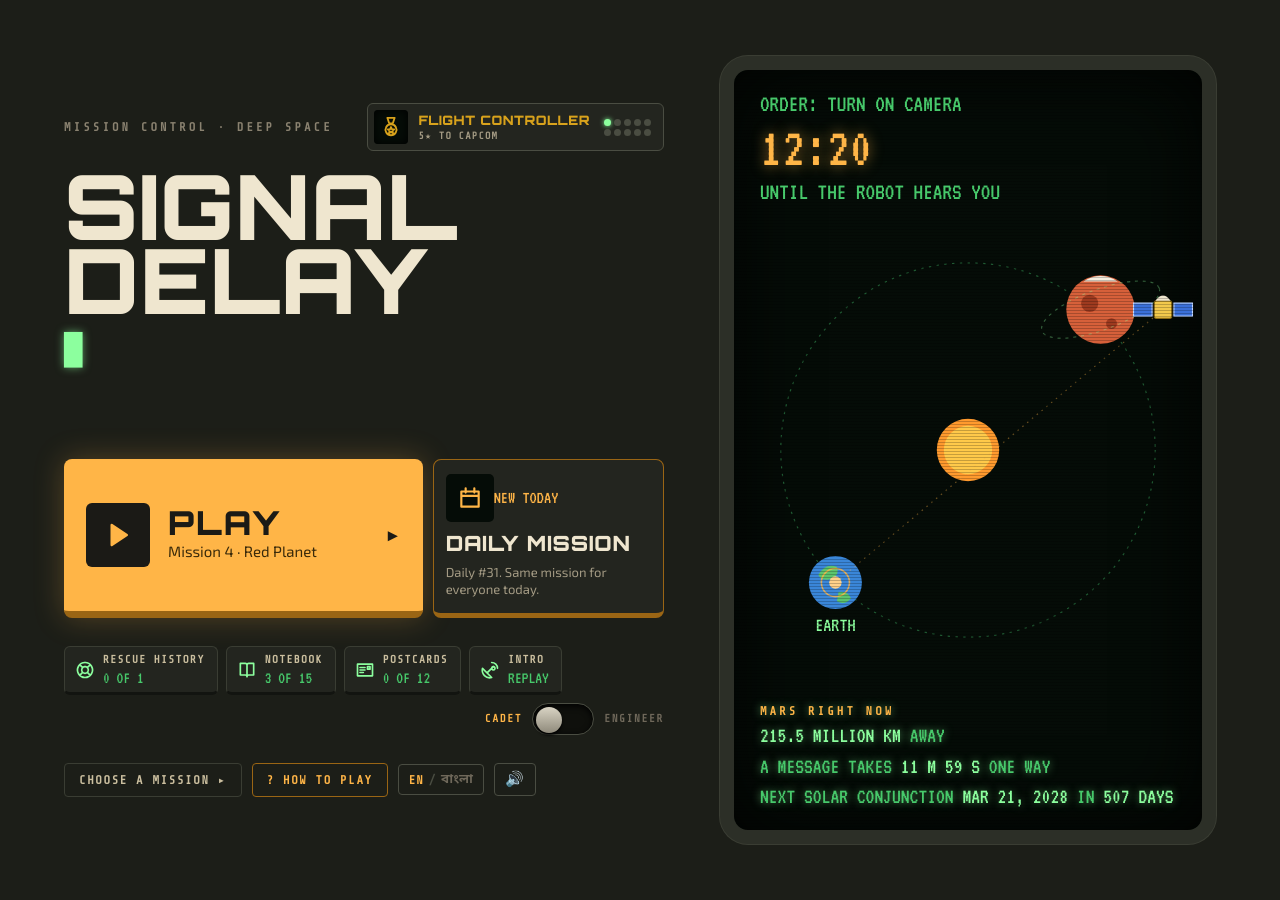
Pack: the nose and the shelf › opens with the locked computer and engine plus the starter’s instruments; squares left come from the engine
Click the button "CHOOSE A MISSION ▸". click: click(153, 780)
box: [64,763,242,797]
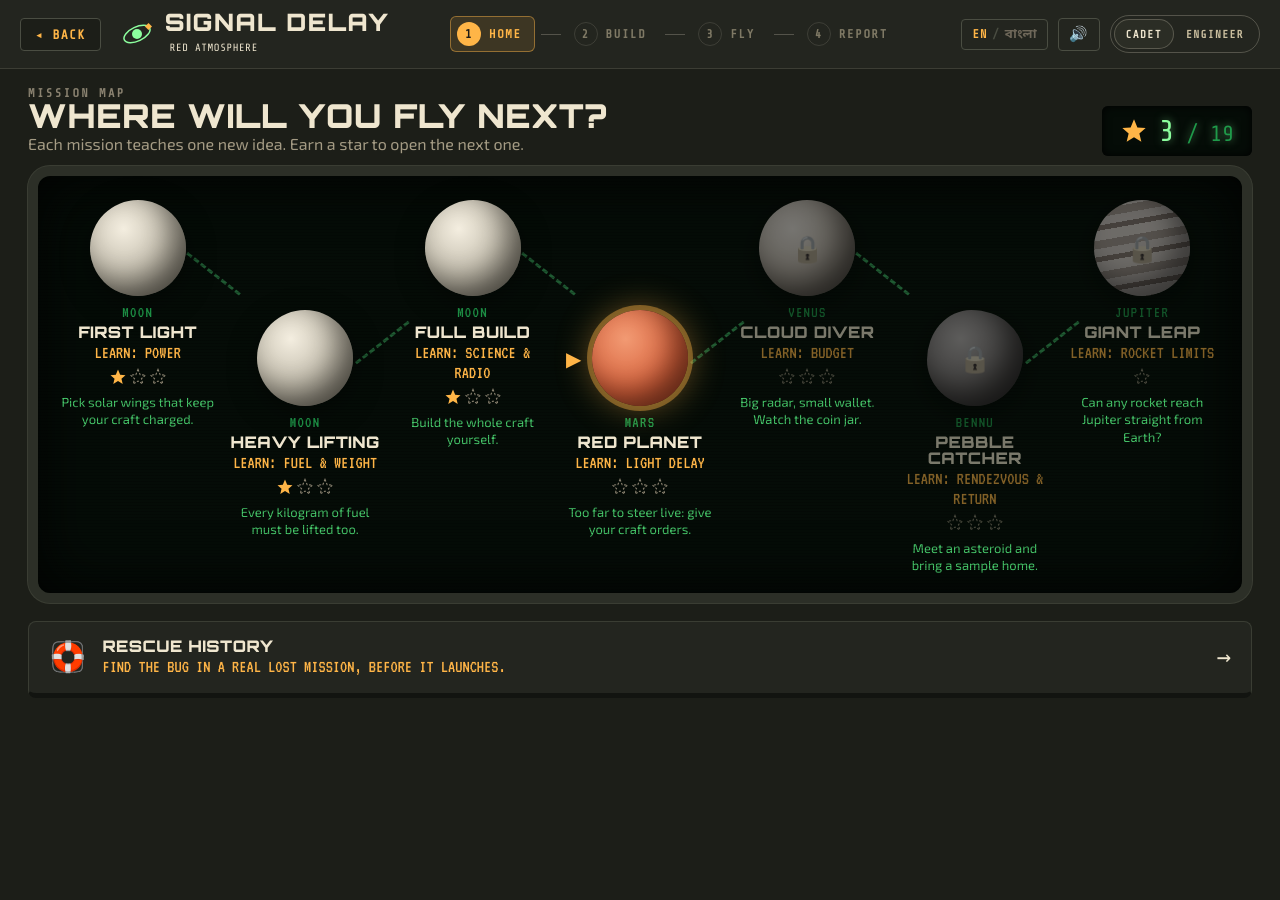
Click the button "▶ Mars Red Planet Learn: Light delay". click: click(640, 403)
box: [575,310,705,496]
Wait 100 ms
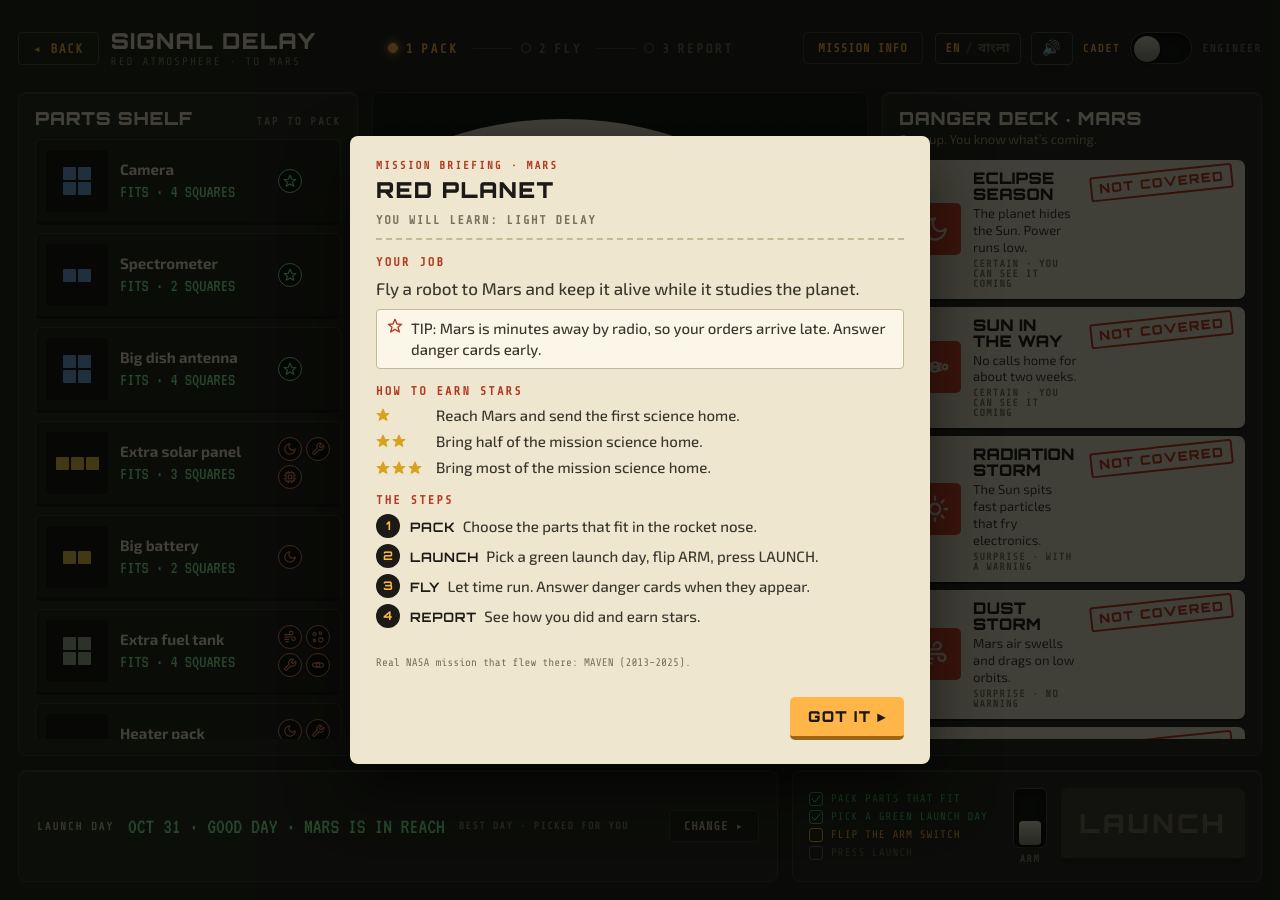
Expected: the button with aria-label "Flight computer (always packed)" is shown, [372,246,488,368]
Expected: the button with aria-label "Main engine (always packed)" is shown, [494,246,616,304]
